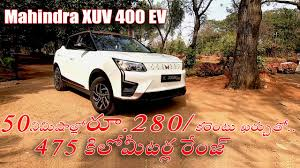XUV 400: (50, 29, 188, 115)
